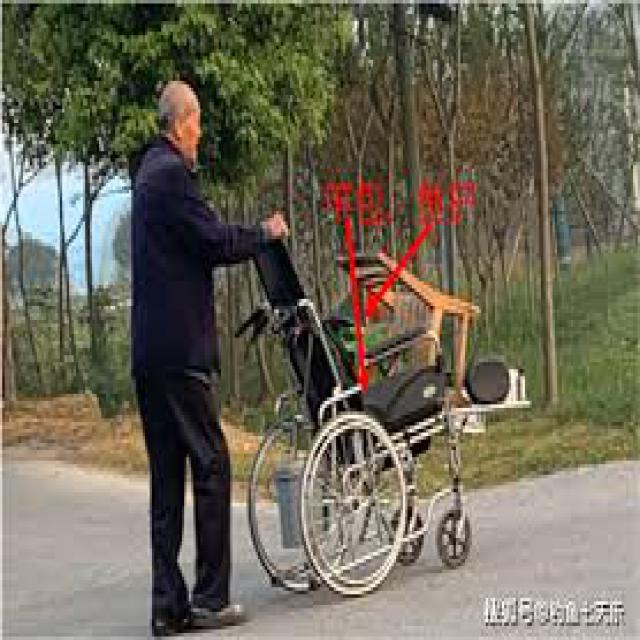wheelchairs: (230, 225, 530, 591)
